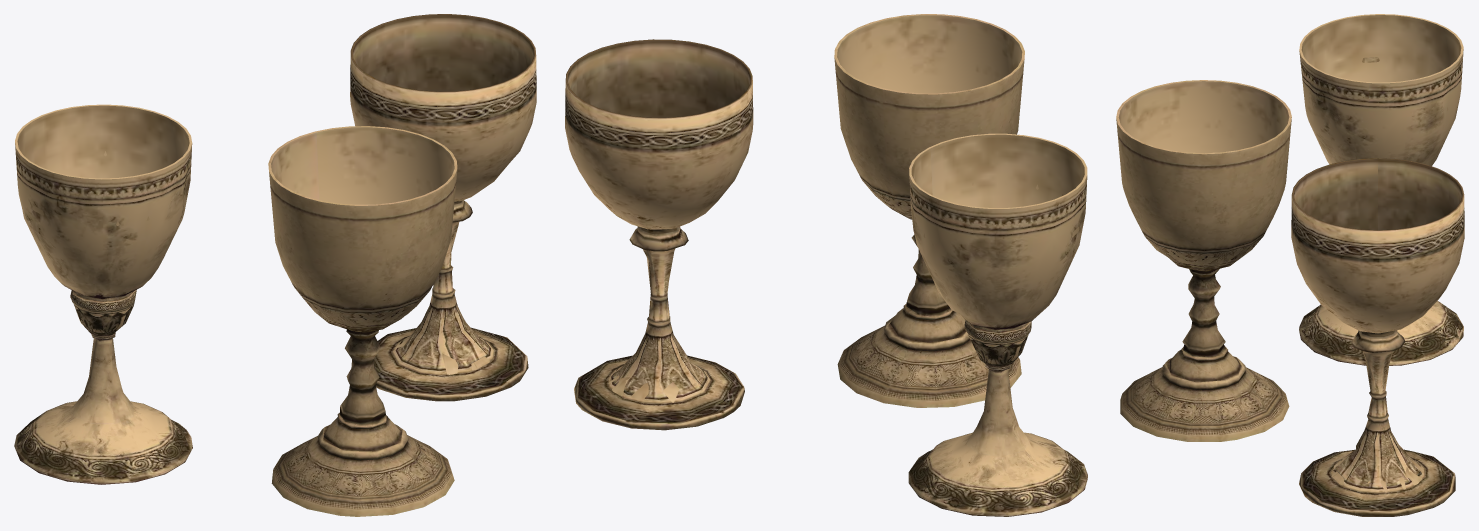
File: goblets.glb
3 views of the same model, side by side, from view 1: azimuth 30°, elevation 25°; view 2: azimuth 150°, elevation 25°; view 3: azimuth 270°, elevation 25° (orthographic). The views are drawn at different scales.
Parts seen in each view (by area): view 1: brass_goblet_01, brass_goblet_02, brass_goblet_03; view 2: brass_goblet_02, brass_goblet_03, brass_goblet_01; view 3: brass_goblet_01, brass_goblet_03, brass_goblet_02.
Boxes of the visible parts, bbox=[...] form: brass_goblet_01: bbox=[268, 126, 457, 516]; brass_goblet_02: bbox=[14, 104, 192, 484]; brass_goblet_03: bbox=[350, 14, 536, 401]; brass_goblet_02: bbox=[908, 133, 1087, 516]; brass_goblet_03: bbox=[565, 39, 753, 430]; brass_goblet_01: bbox=[834, 14, 1024, 407]; brass_goblet_01: bbox=[1116, 80, 1291, 441]; brass_goblet_03: bbox=[1291, 158, 1464, 516]; brass_goblet_02: bbox=[1299, 14, 1463, 365].
Size of the model in its own units: 0.4524 by 0.2734 by 0.2969.
Materials: 3 (3 with a texture image).
